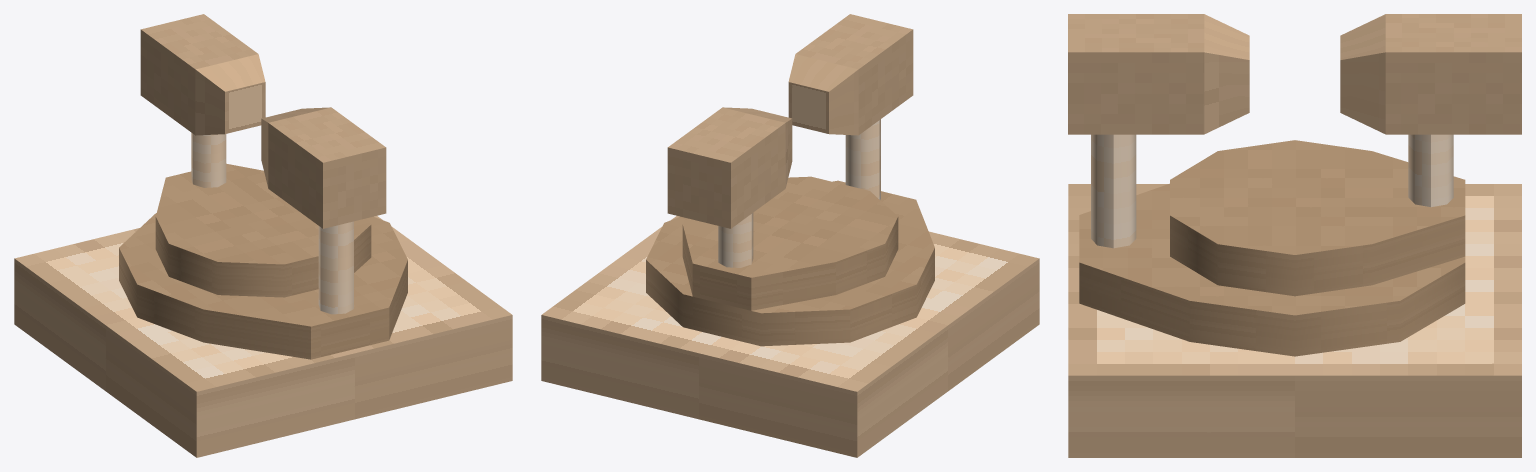
File: rustedanalyser.obj
3 renders of one model, left to right at view 1: azimuth 30°, elevation 25°; view 2: azimuth 150°, elevation 25°; view 3: azimuth 270°, elevation 25°, orthographic. The views are drawn at different scales.
Visible parts, largest first — view 1: g3, g0, g2_group, g1_group; view 2: g3, g0, g1_group, g2_group; view 3: g3, g0, g1_group, g2_group.
Boxes of the visible parts, bbox=[...] form: g3: bbox=[14, 213, 512, 457]; g0: bbox=[155, 133, 371, 297]; g2_group: bbox=[261, 107, 386, 228]; g1_group: bbox=[140, 14, 265, 135]; g3: bbox=[541, 119, 1039, 457]; g0: bbox=[682, 176, 898, 310]; g1_group: bbox=[667, 107, 792, 228]; g2_group: bbox=[788, 14, 913, 135]; g3: bbox=[1068, 134, 1521, 457]; g0: bbox=[1170, 134, 1465, 296]; g1_group: bbox=[1340, 14, 1521, 134]; g2_group: bbox=[1068, 14, 1249, 134].
Bounding box in the file's own units: 1 × 0.8 × 1.
